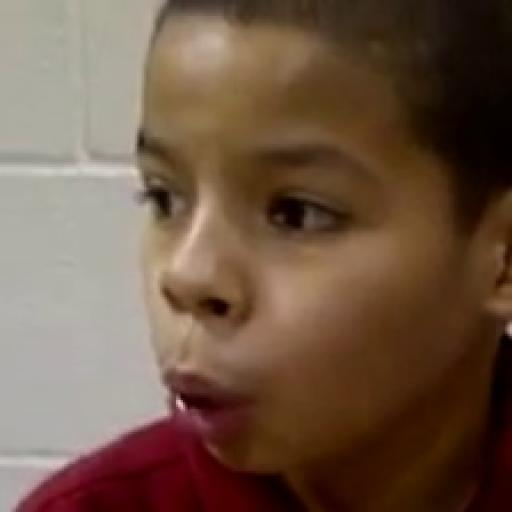Autism: (68, 23, 512, 503)
